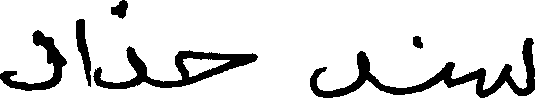ا: (74, 16, 92, 87)
ح: (173, 48, 256, 87)
د: (0, 28, 63, 91), (308, 48, 370, 96)
ذ: (91, 0, 148, 89)
س: (478, 35, 533, 96)
ن: (407, 33, 456, 88)
